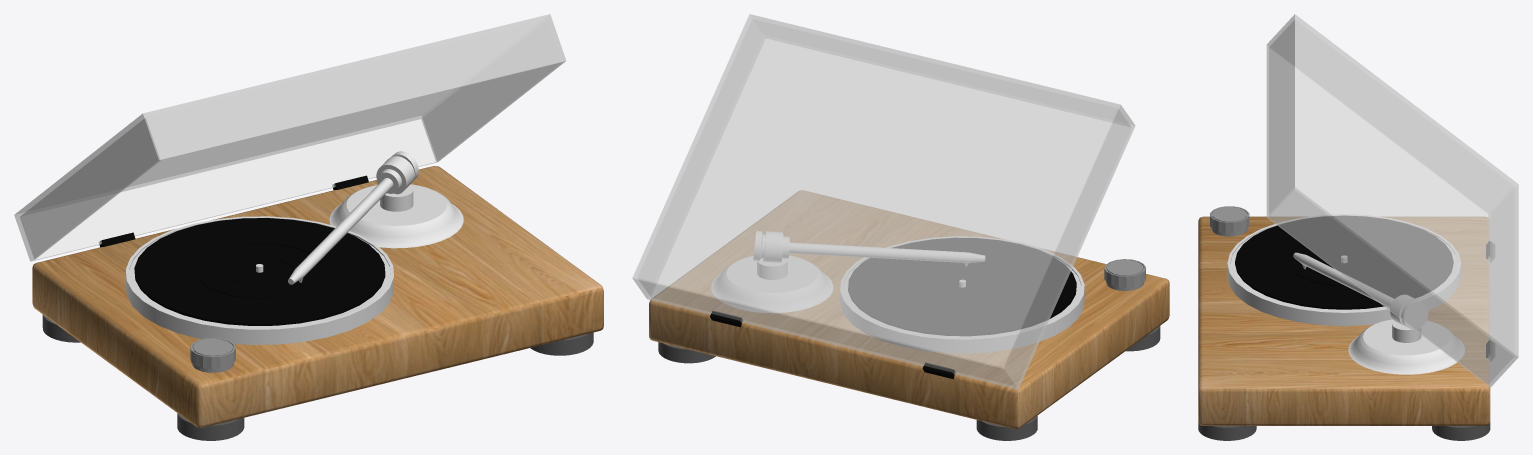
The model's file is wooden_record_player__vinyl_player.glb.
The picture shows the model from 3 angles, left to right: view 1: azimuth 30°, elevation 25°; view 2: azimuth 150°, elevation 25°; view 3: azimuth 270°, elevation 25°; orthographic projection. The views are drawn at different scales.
Visible parts, largest first — view 1: Plane.001, Plane, Cylinder.006, Cylinder, Cylinder.001, Cylinder.008, Cylinder.009, Cylinder.003, Cylinder.004, Cylinder.007; view 2: Plane.001, Plane, Cylinder.006, Cylinder, Cylinder.001, Cylinder.008, Cylinder.009, Cylinder.002, Cylinder.005, Cylinder.007; view 3: Plane.001, Plane, Cylinder.006, Cylinder, Cylinder.001, Cylinder.008, Cylinder.009, Cylinder.004, Cylinder.005, Cylinder.007.
Boxes of the visible parts, x1=… form: Plane.001: x1=14, y1=14, x2=566, y2=261; Plane: x1=32, y1=166, x2=603, y2=427; Cylinder.006: x1=134, y1=218, x2=385, y2=325; Cylinder: x1=125, y1=216, x2=393, y2=344; Cylinder.001: x1=329, y1=184, x2=463, y2=248; Cylinder.008: x1=288, y1=151, x2=418, y2=284; Cylinder.009: x1=190, y1=338, x2=235, y2=372; Cylinder.003: x1=177, y1=413, x2=244, y2=440; Cylinder.004: x1=530, y1=332, x2=593, y2=355; Cylinder.007: x1=380, y1=185, x2=413, y2=211; Plane.001: x1=632, y1=14, x2=1135, y2=389; Plane: x1=649, y1=190, x2=1169, y2=428; Cylinder.006: x1=848, y1=238, x2=1076, y2=335; Cylinder: x1=840, y1=236, x2=1084, y2=353; Cylinder.001: x1=711, y1=256, x2=832, y2=312; Cylinder.008: x1=753, y1=231, x2=984, y2=266; Cylinder.009: x1=1104, y1=259, x2=1145, y2=290; Cylinder.002: x1=976, y1=415, x2=1037, y2=440; Cylinder.005: x1=658, y1=342, x2=715, y2=363; Cylinder.007: x1=757, y1=258, x2=787, y2=279; Plane.001: x1=1266, y1=14, x2=1518, y2=387; Plane: x1=1198, y1=216, x2=1490, y2=425; Cylinder.006: x1=1235, y1=216, x2=1453, y2=309; Cylinder: x1=1227, y1=214, x2=1460, y2=326; Cylinder.001: x1=1348, y1=319, x2=1464, y2=374; Cylinder.008: x1=1293, y1=252, x2=1427, y2=329; Cylinder.009: x1=1210, y1=206, x2=1249, y2=236; Cylinder.004: x1=1198, y1=422, x2=1256, y2=440; Cylinder.005: x1=1432, y1=422, x2=1490, y2=440; Cylinder.007: x1=1392, y1=321, x2=1421, y2=342.
Size of the model in its own units: 0.8 by 0.548 by 0.6269.
Materials: 6 (1 with a texture image).
